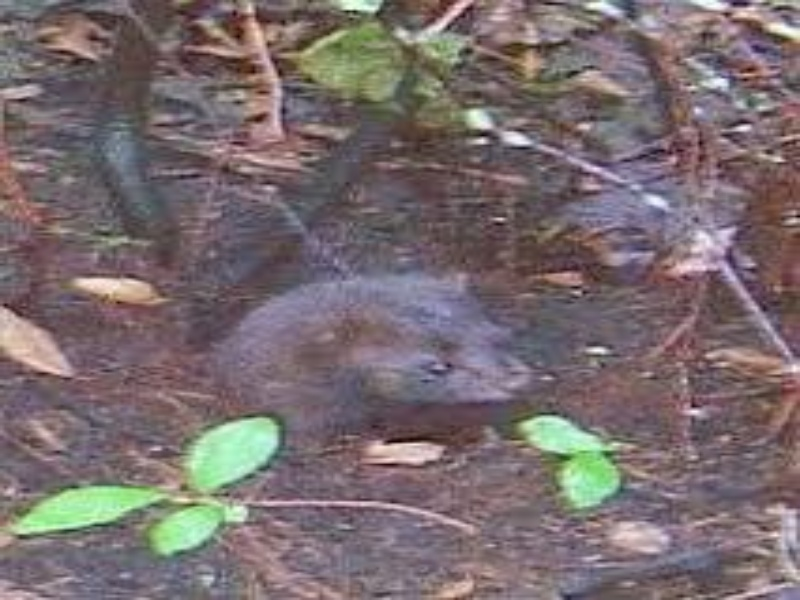minkish: (208, 270, 543, 430)
